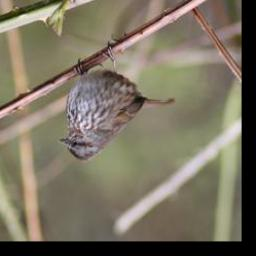Sparrow: (56, 40, 179, 165)
